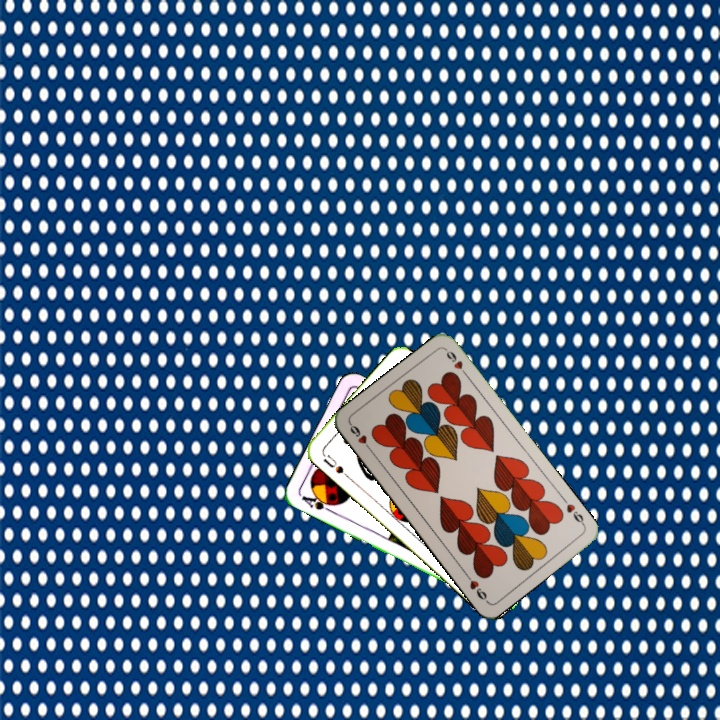H9: (558, 494, 588, 529), (346, 420, 375, 455)
SA: (297, 490, 338, 515)
SU: (318, 449, 352, 481)
